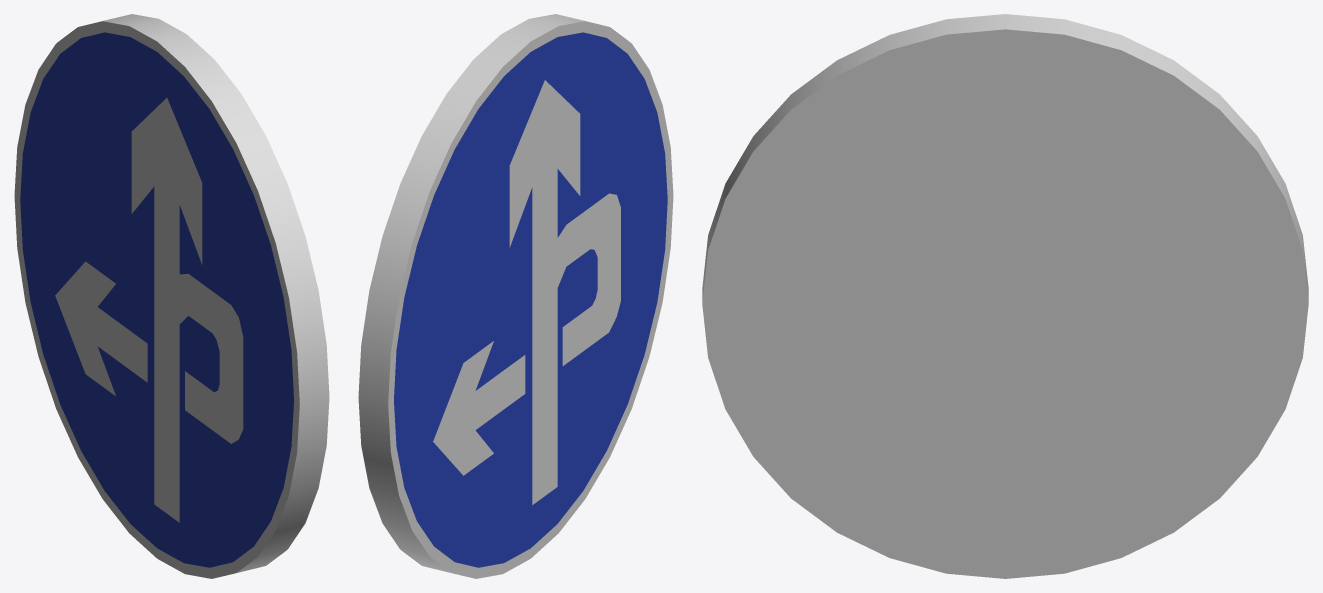
The model's file is Flyover_Straight_And_TurnLeft.fbx.
The picture shows the model from 3 angles, left to right: view 1: azimuth 30°, elevation 25°; view 2: azimuth 150°, elevation 25°; view 3: azimuth 270°, elevation 25°; orthographic projection. The views are drawn at different scales.
Parts seen in each view (by area): view 1: Flyover_Straight_And_TurnLeft; view 2: Flyover_Straight_And_TurnLeft; view 3: Flyover_Straight_And_TurnLeft.
Boxes of the visible parts, bbox=[...] form: Flyover_Straight_And_TurnLeft: bbox=[14, 14, 329, 578]; Flyover_Straight_And_TurnLeft: bbox=[358, 14, 673, 578]; Flyover_Straight_And_TurnLeft: bbox=[702, 14, 1308, 578].
Bounding box in the file's own units: 0.0643 × 1 × 1.
